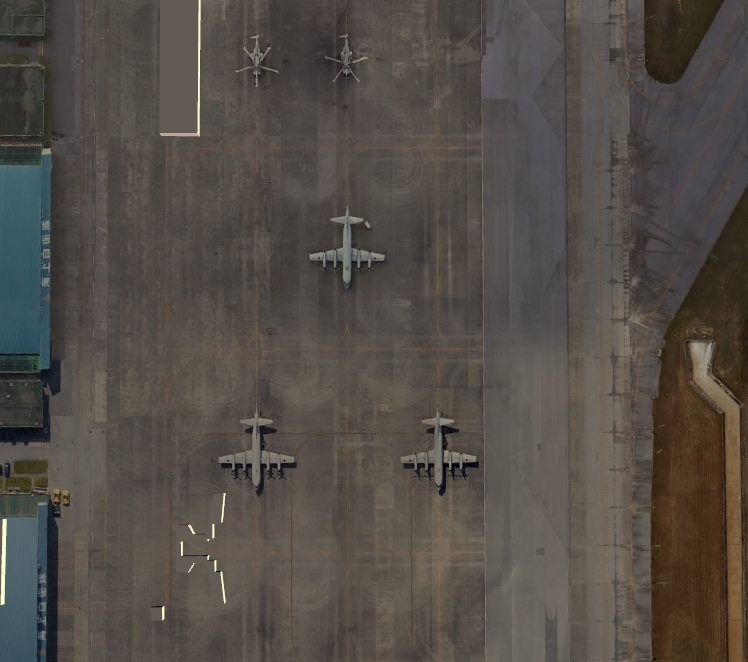A9: (396, 397, 482, 496), (304, 188, 389, 286), (215, 395, 300, 493)
